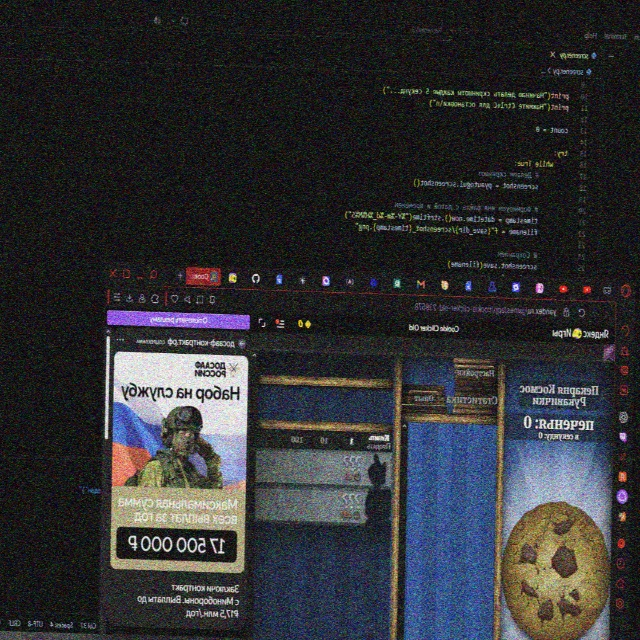game: (505, 500, 607, 638)
pokypki: (251, 448, 396, 528)
